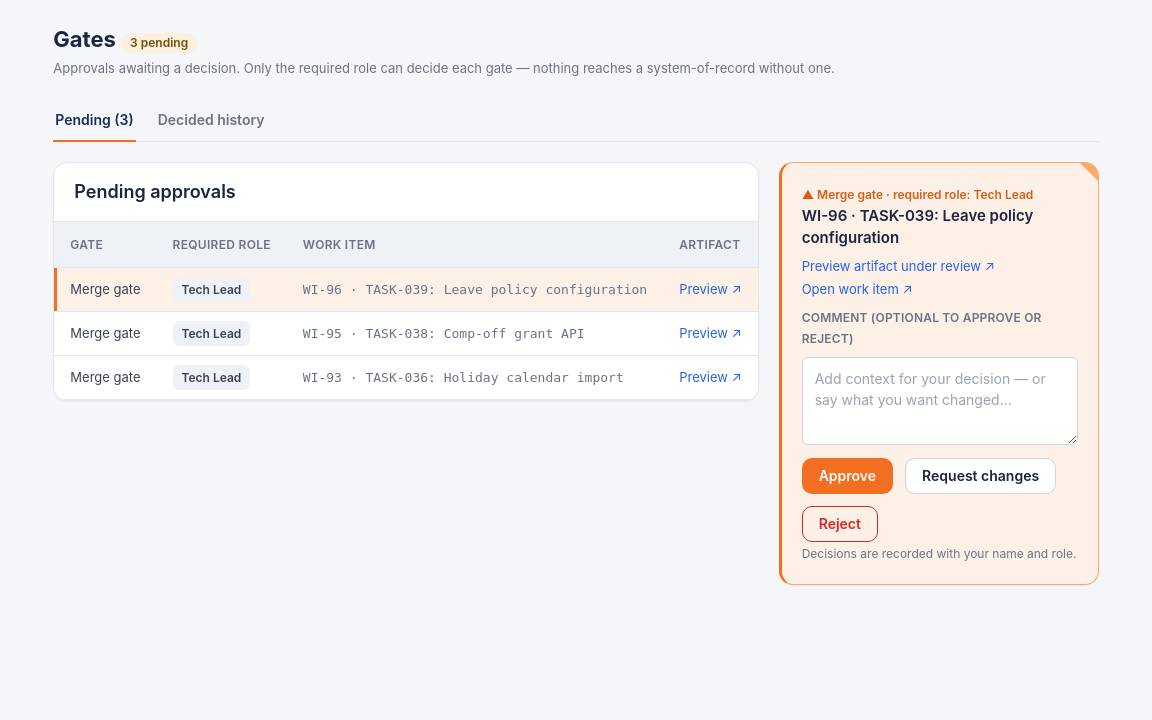
Test case: the confirmation after a decision (S.No 250) › clears the confirmation when the reviewer moves to another gate
Click the button "Approve".
click(847, 476)  # box [802,458,893,494]
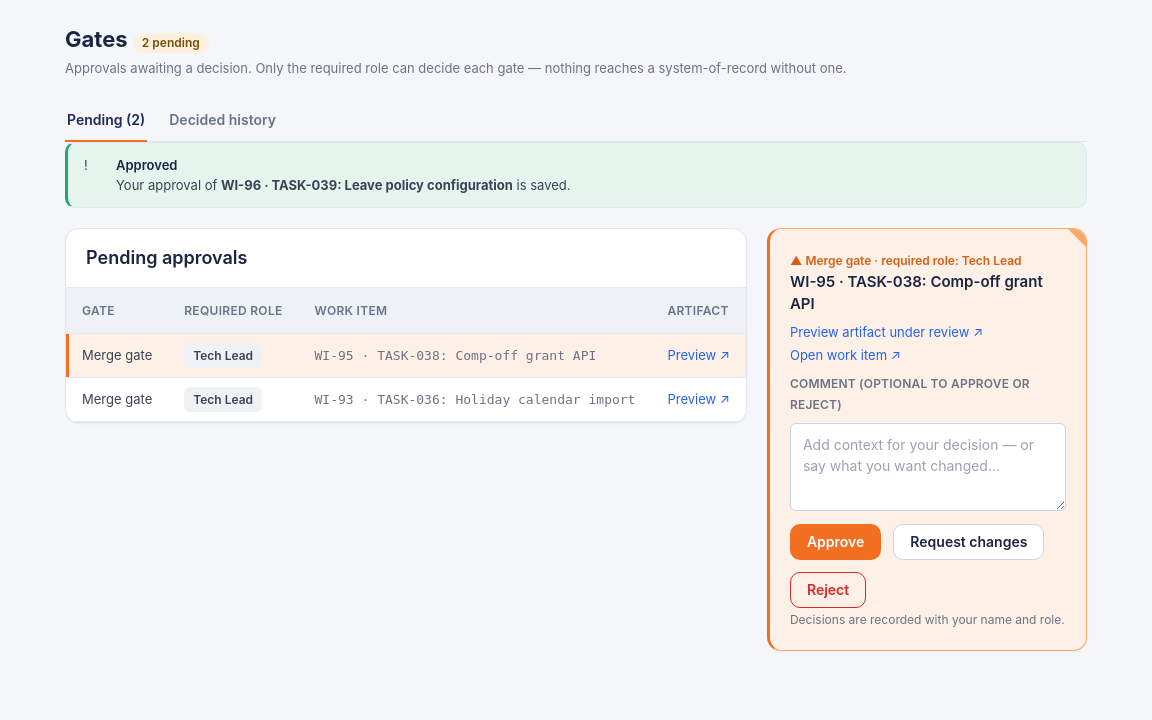
Now the text "Approved" is shown, box [116,157,177,173]
Click the text "WI-93 · TASK-036: Holiday calendar import".
click(475, 400)  # box [314,392,635,407]
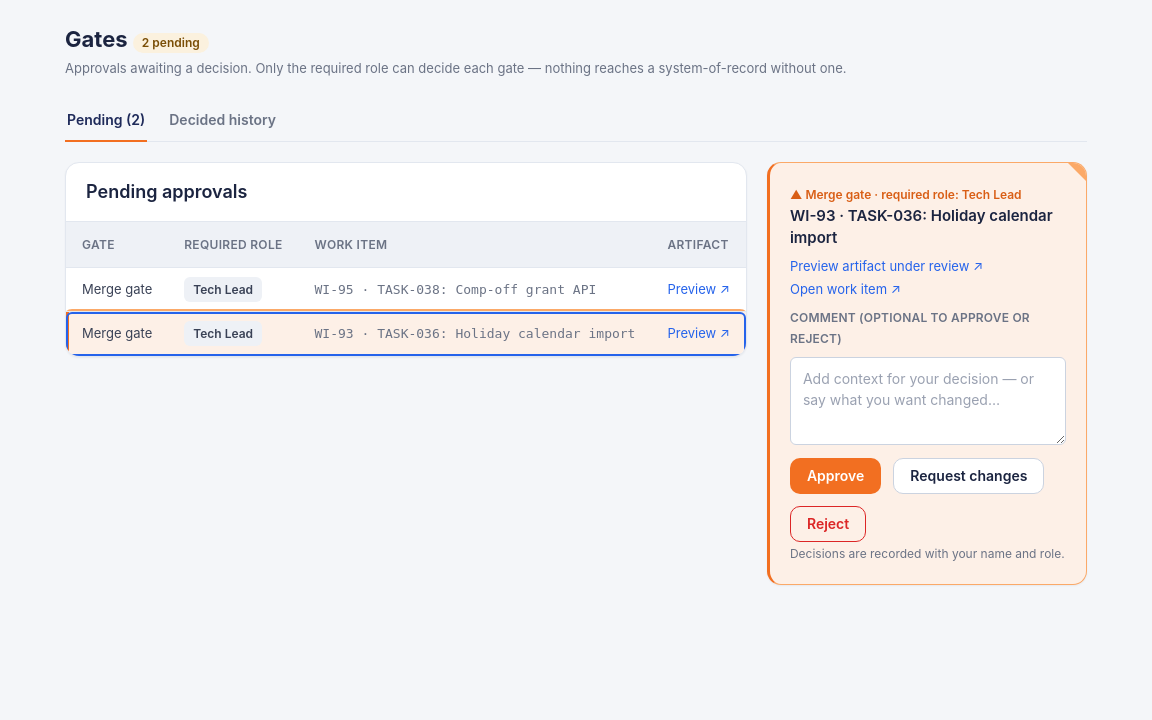
Now the text "Approved" is gone
